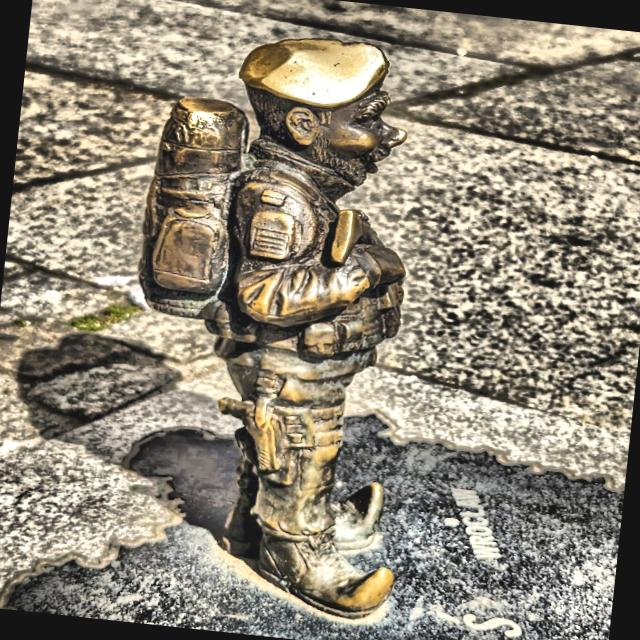WOTus: (140, 38, 406, 617)
